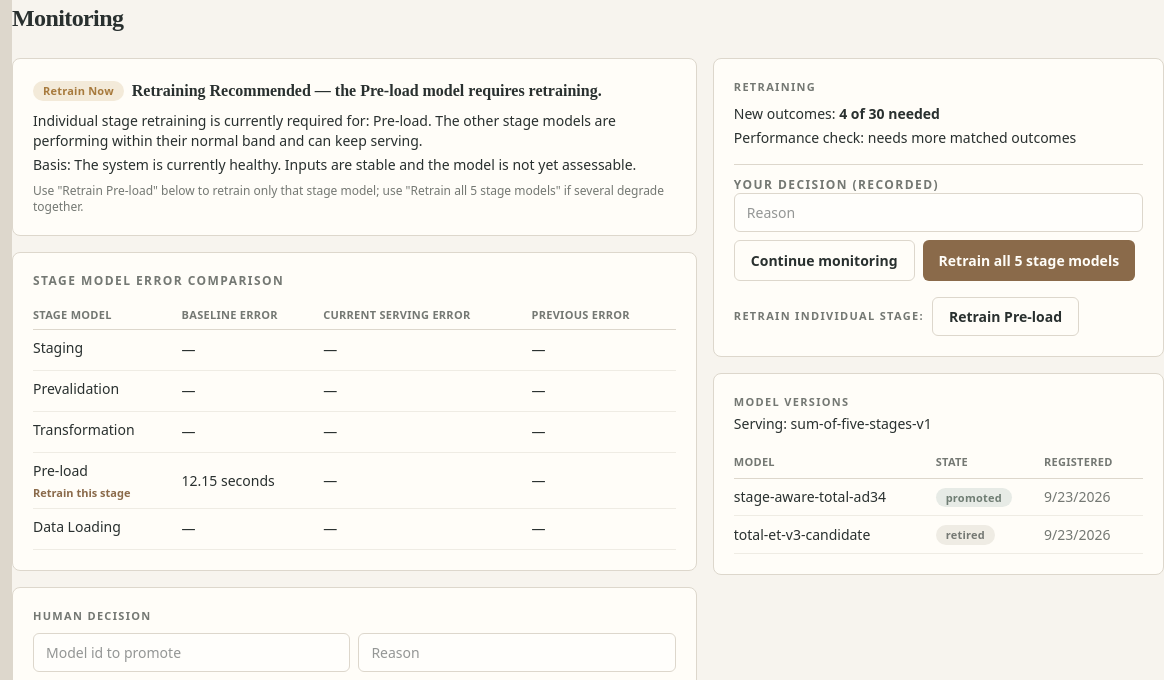
Drift & Retraining (2026-10-04 compact layout) › governance actions post promote/rollback without an approver-name input
This screenshot has width=1164, height=680.
Type "stage-aware-total-ad35" into the field named "Model to promote".
click(192, 652); type("stage-aware-total-ad35")  # box [33, 633, 350, 672]
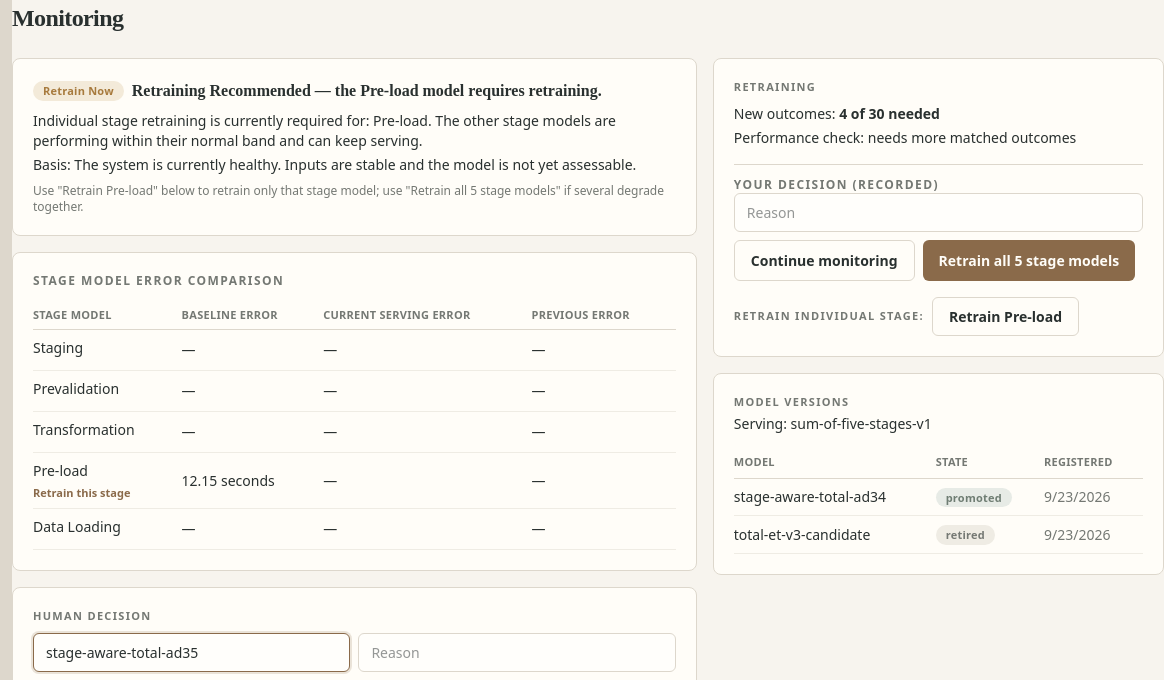
Type "better holdout error" into the field labelled "Reason" below "Human decision".
click(517, 652); type("better holdout error")  # box [358, 633, 676, 672]
(page scrolled)
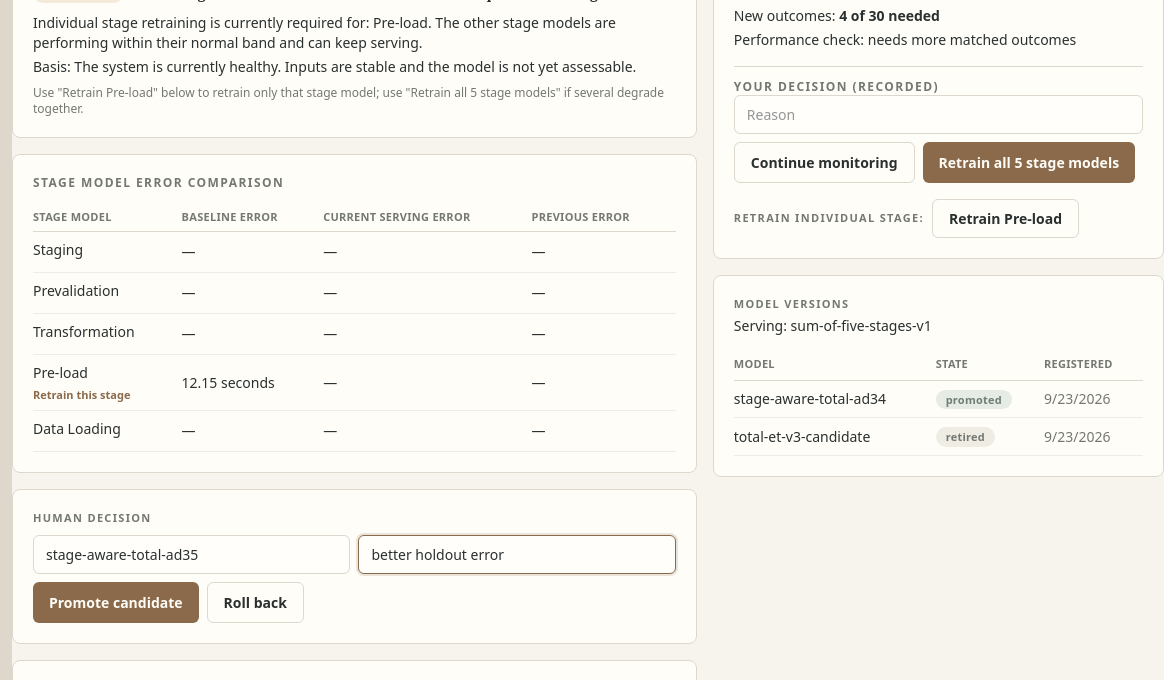
Click the button with test id "promote-button".
click(116, 602)  # box [33, 582, 199, 623]
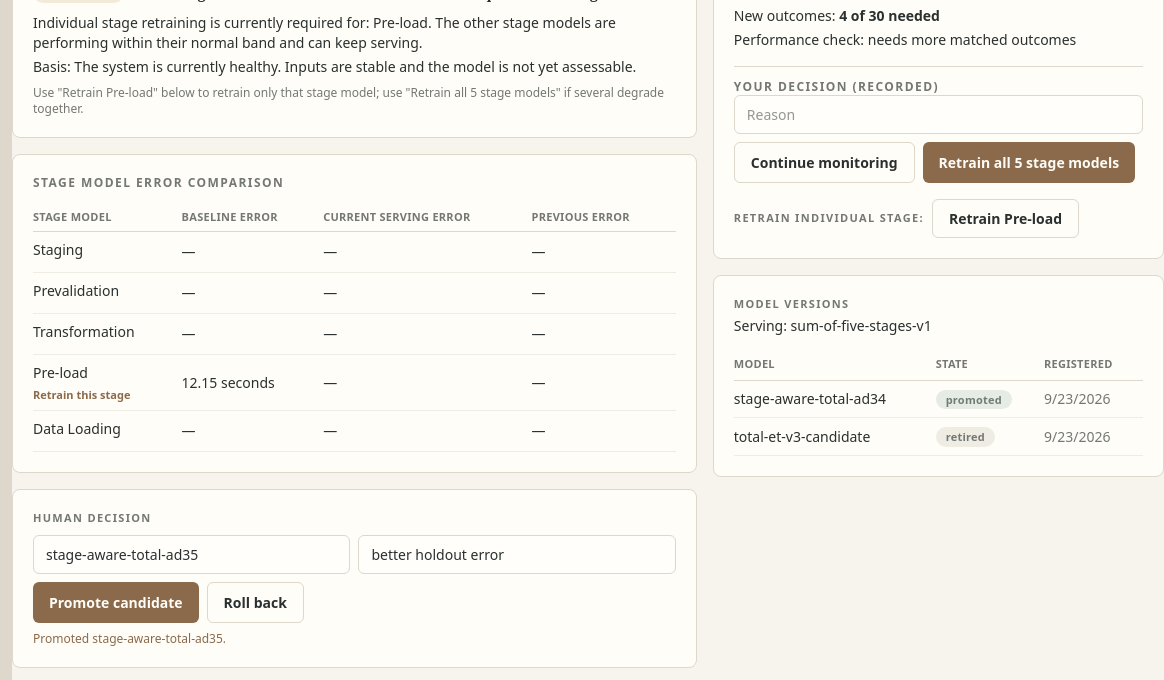
Expected: the message with test id "governance-notice" shows "Promoted", [33, 630, 226, 647]
